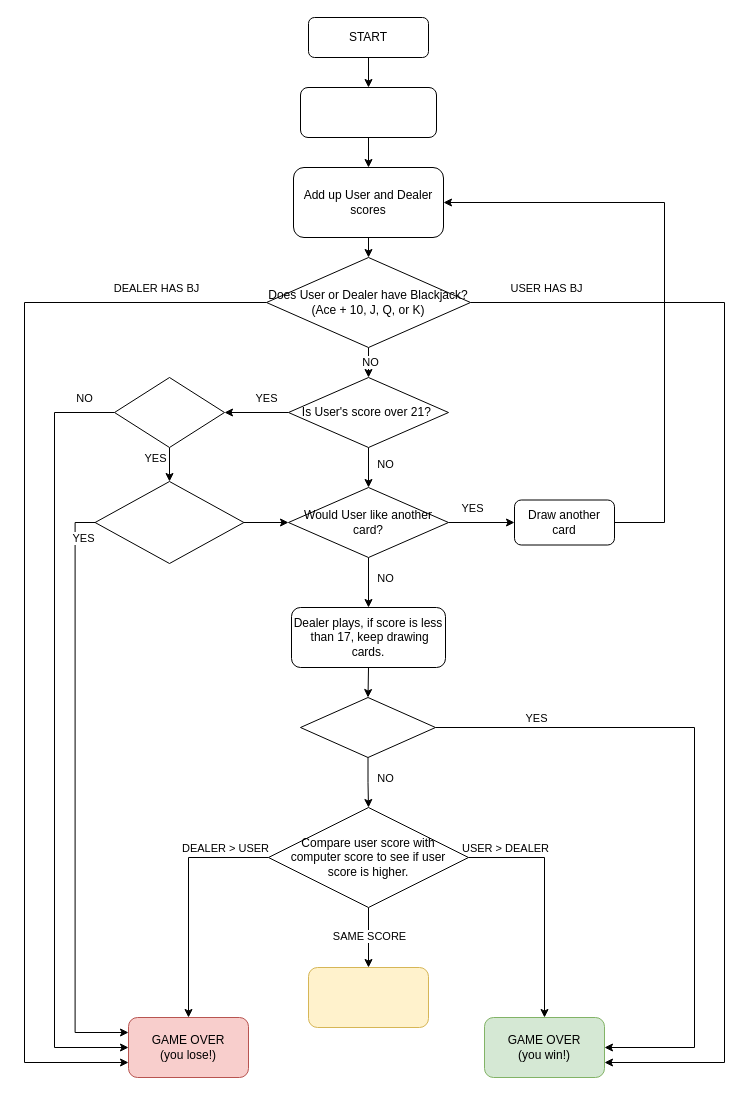
Some shapes in this 750 by 1095 pixel diagram are drawn without their labels. The centre of each missing label's shape, as x and y in pixels:
Do they have an "Ace"?: point (169, 412)
GAME OVER (draw!): point (368, 997)
Has dealer gone over 21?: point (368, 727)
If "Ace" is counted as 1 instead of 11, is user still over 21?: point (169, 522)
Print Logo, Dealer and User both get two random cards.: point (368, 112)
